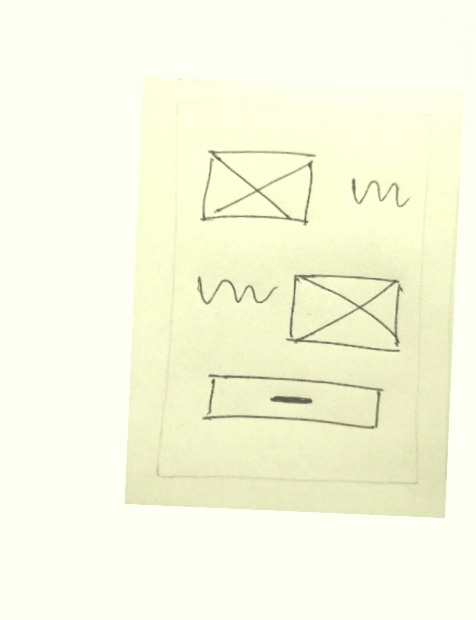button: (198, 368, 385, 438)
image: (283, 268, 409, 358), (197, 143, 317, 236)
text: (190, 270, 281, 322), (341, 171, 417, 217)
